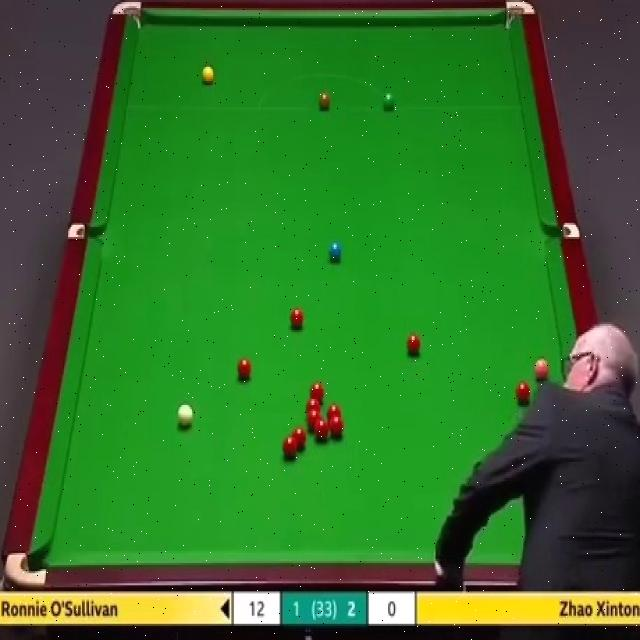blue-ball: (329, 242, 342, 262)
brown-ball: (318, 92, 330, 111)
green-ball: (382, 92, 397, 111)
pink-ball: (533, 358, 551, 382)
red-ball: (289, 306, 305, 331), (516, 379, 531, 405), (405, 332, 421, 355), (237, 357, 252, 381), (282, 436, 298, 458), (306, 406, 321, 429), (309, 381, 324, 403), (330, 414, 345, 436), (293, 427, 307, 449), (326, 403, 342, 421), (305, 398, 320, 416), (314, 421, 328, 440)
white-ball: (177, 402, 193, 427)
yellow-ball: (201, 66, 214, 87)
